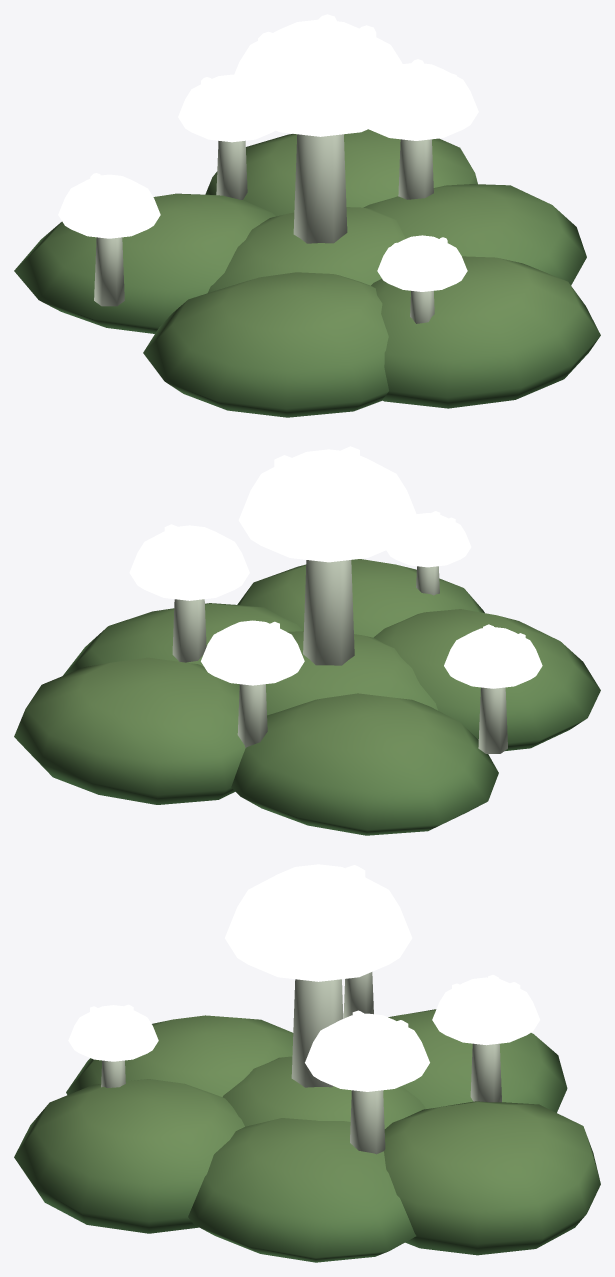
Rendered from ing_glowcap.glb.
3 renders of one model, top to bottom at view 1: azimuth 30°, elevation 25°; view 2: azimuth 150°, elevation 25°; view 3: azimuth 270°, elevation 25°, orthographic. The views are drawn at different scales.
Visible parts, largest first — view 1: ing_glowcap; view 2: ing_glowcap; view 3: ing_glowcap.
Part boxes in pixels (<box>): ing_glowcap: <box>14,14,600,417</box>; ing_glowcap: <box>14,446,600,835</box>; ing_glowcap: <box>14,864,600,1262</box>.
Size of what is drawn, in the model's own units: 0.3621 by 0.1936 by 0.3751.
